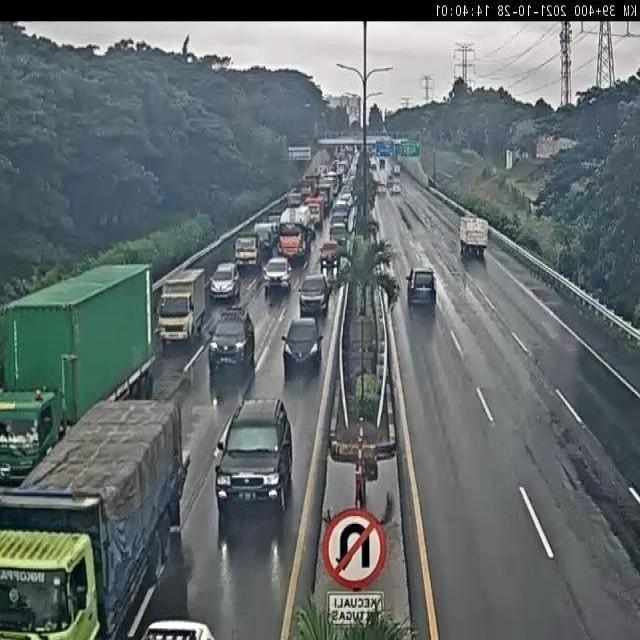Car: (214, 394, 292, 524), (207, 303, 256, 385), (280, 316, 324, 382), (298, 273, 334, 320), (209, 262, 241, 301), (262, 256, 292, 297), (406, 266, 437, 305), (390, 182, 401, 195)
Truck: (5, 393, 185, 640), (155, 268, 207, 348), (277, 207, 314, 266), (459, 216, 489, 260), (234, 235, 259, 272), (254, 222, 278, 260), (303, 194, 325, 231)
